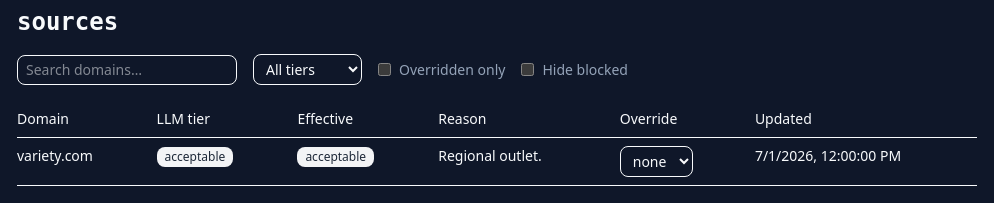
Test: AdminSources › shows a filtered-empty message when filters exclude every row
Expected: the text "variety.com" is shown, x1=17 y1=138 x2=157 y2=186
Type "zzz" into the search field labelled "Search domains" at (127, 70), box x1=17 y1=54 x2=237 y2=84
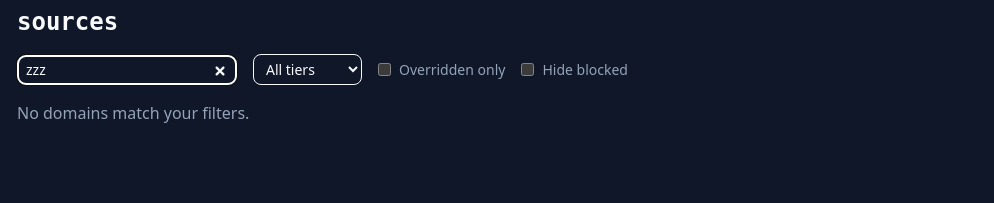
Result: the text "No domains match your filters." is shown at x1=17 y1=102 x2=249 y2=124
